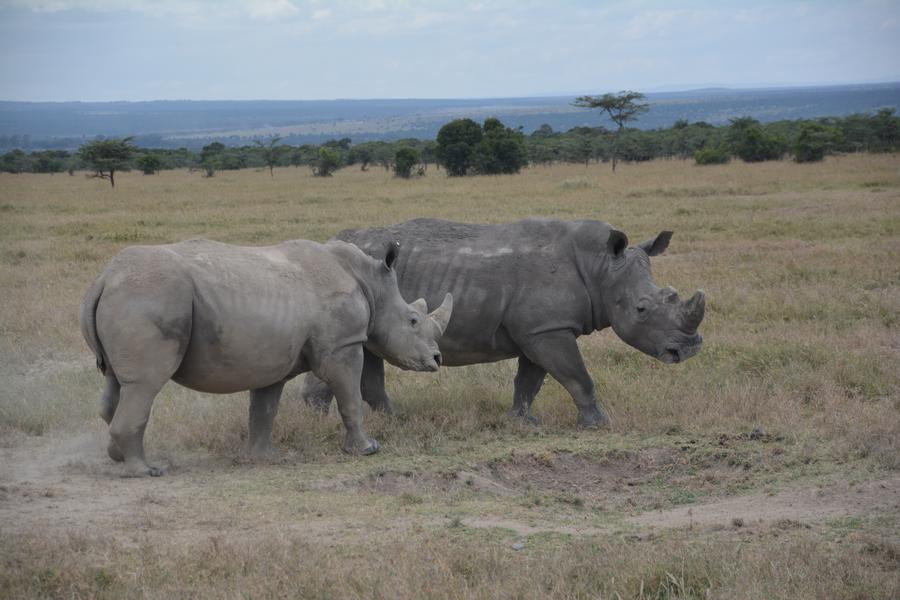rhino: (85, 235, 416, 429), (439, 216, 707, 380)
